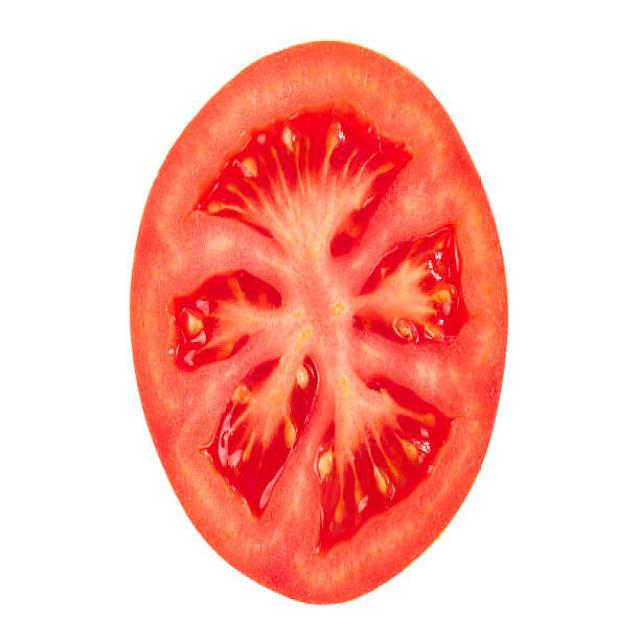Tomato: (133, 30, 508, 616)
